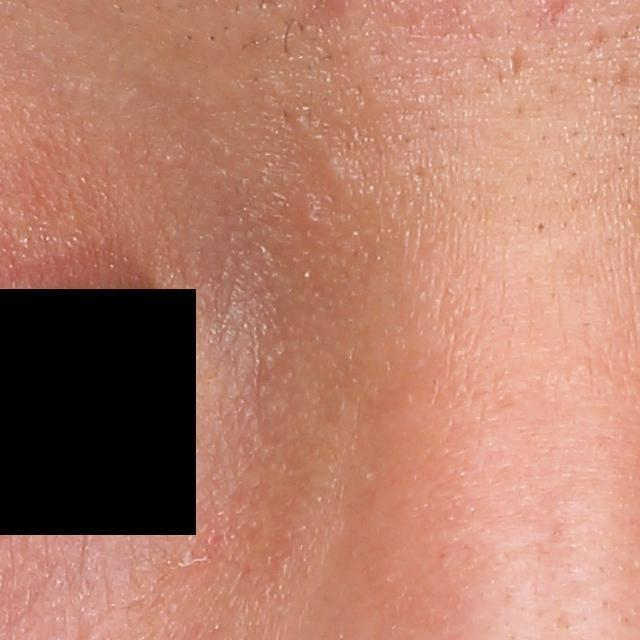atrophic_scar: (507, 39, 528, 81)
comedo: (317, 159, 355, 196), (296, 201, 330, 240)
